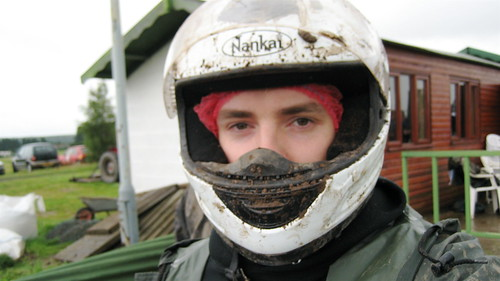helmet: (156, 0, 403, 268)
